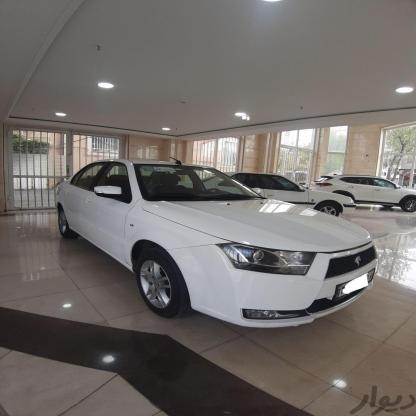Car: (52, 155, 372, 329), (196, 166, 356, 224), (305, 170, 416, 209)
